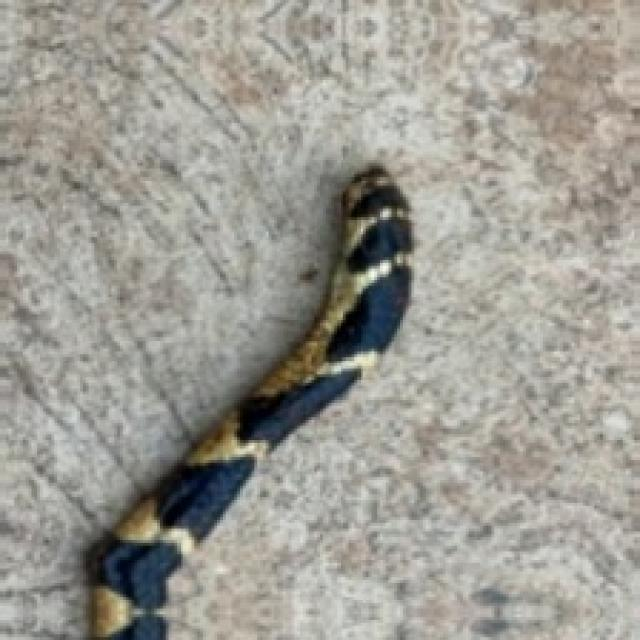king cobra: (91, 166, 409, 637)
